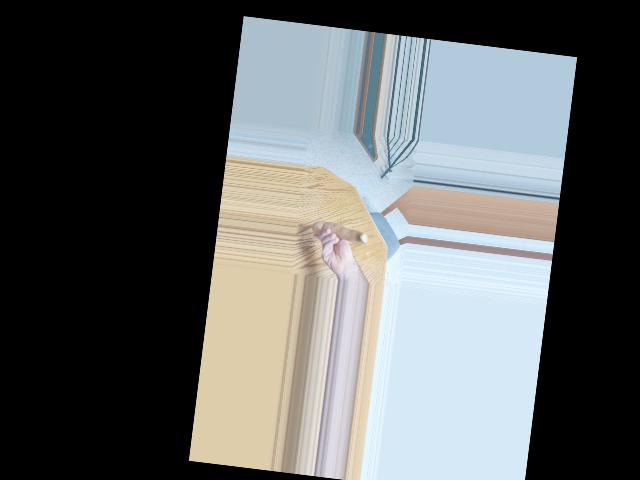sweet_potato: (309, 217, 367, 248)
